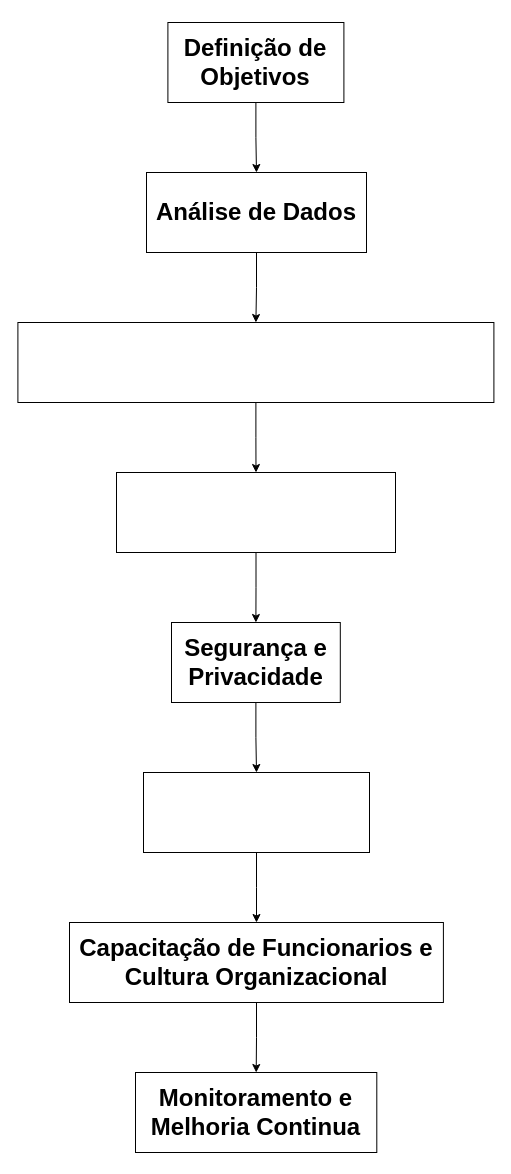
This 511x1174 diagram has some shape labels left out. Each missing label, with the centre of its shape:
"Implementação e Integração" belongs at point 256,812.
"Personalização e Experiência do Cliente" belongs at point 256,512.
"Tomada de Decisão Baseado em Dados" belongs at point 255,362.
